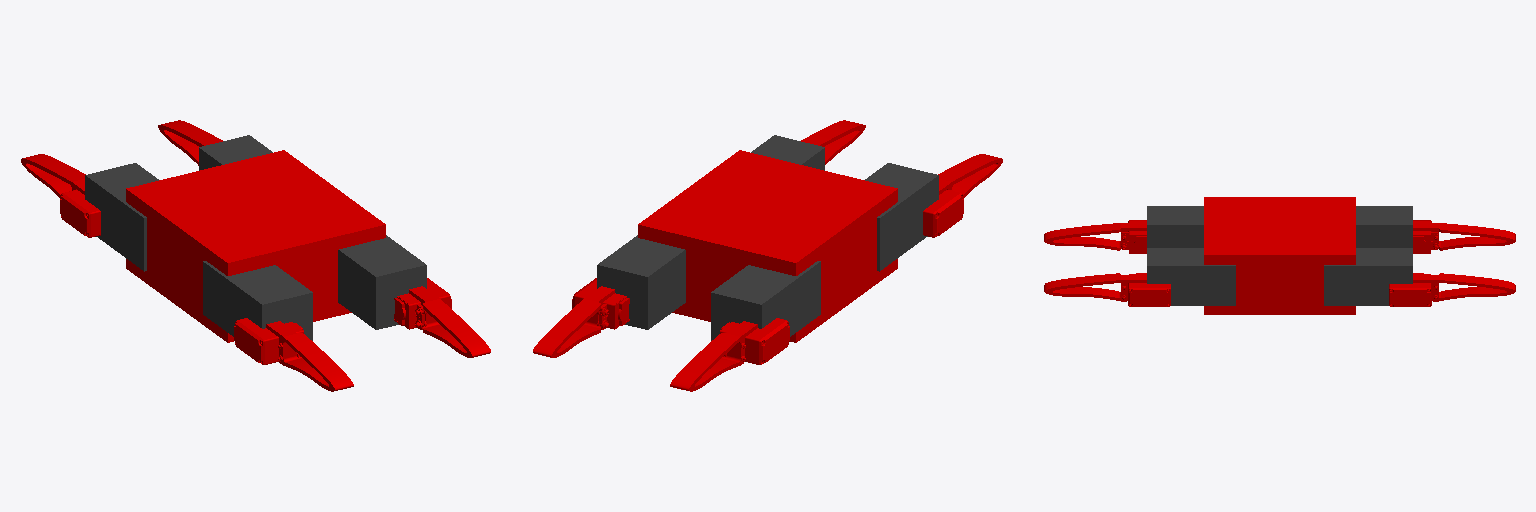
The robot description file, URDF, robot "robot":
<?xml version="1.0"?>
<robot name="robot">

    <material name="red">
        <color rgba="0.9 0 0 1.0" />
    </material>
    <material name="black">
        <color rgba="0.3 0.3 0.3 1.0" />
    </material>


    <link name="corpus">
        <visual>
            <origin xyz="0 0 0" rpy="0 0 0" />
            <geometry>
                 <box size="1.31 1.46 0.6305"/>
            </geometry>
            <material name="red"/>
        </visual>
        <collision>
            <origin xyz="0 0 0" rpy="0 0 0" />
            <geometry>
                <box size="1.31 1.46 0.6305"/>
            </geometry>
        </collision>
        <inertial>
            <origin xyz="0 -0.1 -0.1" rpy="0 0 0" />
            <mass value="561"/>
            <inertia ixx="116.6" ixy="-1.1" ixz="-0.05" iyy="102.5" iyz="4.0" izz="198.5"/>
        </inertial>
         <contact> 
            <lateral_friction value="1"/>
        </contact>
    </link>

    <link name="upper_leg_front_left">
        <visual>
            <origin xyz="0.08 0.295 0" rpy="3.1415 0 0" />
            <geometry>
                <box size="0.42 0.85 0.42"/>
            </geometry>
            <material name="black"/>
        </visual>
        <collision>
            <origin xyz="0.08 0.295 0" rpy="3.1415 0 0" />
            <geometry>
                <box size="0.42 0.85 0.42"/>
            </geometry>
        </collision>
        <inertial>
            <mass value="22"/>
            <origin xyz="0.08 0.295 0" rpy="3.1415 0 0" />
            <inertia ixx="10.9" ixy="-3.2" ixz="-1.9" iyy="7.9" iyz="-3.2" izz="10.9"/>
        </inertial>
         <contact> 
            <lateral_friction value="1"/>
        </contact>
    </link>

    <link name="upper_leg_rear_left">
        <visual>
            <origin xyz="0.08 -0.295 0" rpy="3.1415 0 0" />
            <geometry>
                <box size="0.42 0.85 0.42"/>
            </geometry>
            <material name="black"/>
        </visual>
        <collision>
            <origin xyz="0.08 -0.295 0" rpy="3.1415 0 0" />
            <geometry>
                <box size="0.42 0.85 0.42"/>
            </geometry>
        </collision>
        <inertial>
            <origin xyz="0.08 -0.295 0" rpy="3.1415 0 0" />
            <mass value="22"/>
            <inertia ixx="10.9" ixy="-3.2" ixz="-1.9" iyy="7.9" iyz="-3.2" izz="10.9"/>
        </inertial>
         <contact> 
            <lateral_friction value="1"/>
        </contact>
    </link>

    <link name="upper_leg_front_right">
        <visual>
            <origin xyz="-0.08 0.295 0" rpy="0 3.1415 0" />
            <geometry>
                <box size="0.42 0.85 0.42"/>
            </geometry>
            <material name="black"/>
        </visual>
        <collision>
            <origin xyz="-0.08 0.295 0" rpy="0 3.1415 0" />
            <geometry>
                <box size="0.42 0.85 0.42"/>
            </geometry>
        </collision>
        <inertial>
            <origin xyz="-0.08 0.295 0" rpy="0 3.1415 0" />
            <mass value="22"/>
            <inertia ixx="10.9" ixy="-3.2" ixz="-1.9" iyy="7.9" iyz="-3.2" izz="10.9"/>
        </inertial>
         <contact> 
            <lateral_friction value="1"/>
        </contact>
    </link>

    <link name="upper_leg_rear_right">
        <visual>
            <origin xyz="-0.08 -0.295 0" rpy="0 3.1415 0" />
            <geometry>
                 <box size="0.42 0.85 0.42"/>
            </geometry>
            <material name="black"/>
        </visual>
        <collision>
            <origin xyz="-0.08 -0.295 0" rpy="0 3.1415 0" />
            <geometry>
                <box size="0.42 0.85 0.42"/>
            </geometry>
        </collision>
        <inertial>
            <origin xyz="-0.08 -0.295 0" rpy="0 3.1415 0" />
            <mass value="22"/>
            <inertia ixx="10.9" ixy="-3.2" ixz="-1.9" iyy="7.9" iyz="-3.2" izz="10.9"/>

        </inertial>
         <contact> 
            <lateral_friction value="1"/>
        </contact>
    </link>

    <link name="foot_front_left">
       
        <visual>
            <origin xyz="0 0.471 0" rpy="3.14 0 1.57" />
            <geometry>
                <mesh filename="../mesh/FootL.stl" scale="0.01 0.01 0.01"/>
            </geometry>
            <material name="red"/>
        </visual>
        <collision>
            <origin xyz="0 0.471 0" rpy="3.14 0 1.57" />
            <geometry>
                <mesh filename="../mesh/FootL.stl" scale="0.01 0.01 0.01"/>
            </geometry>
        </collision>
        <inertial>
            <origin xyz="0 0.21 0" rpy="3.14 0 1.57" />
            <mass value="72"/>
            <inertia ixx="0.96" ixy="-0.58" ixz="-0.09" iyy="10.9" iyz="-0.07" izz="11.3"/>
        </inertial>
         <contact> 
            <lateral_friction value="1"/>
        </contact>
    </link>

    <link name="foot_rear_left">
       
        <visual>
            <origin xyz="0 -0.471 0" rpy="3.14 0 -1.57" />
            <geometry>
                <mesh filename="../mesh/FootR.stl" scale="0.01 0.01 0.01"/>
            </geometry>
            <material name="red"/>
        </visual>
        <collision>
            <origin xyz="0 -0.471 0" rpy="3.14 0 -1.57" />
            <geometry>
                <mesh filename="../mesh/FootR.stl" scale="0.01 0.01 0.01"/>
            </geometry>
        </collision>
        <inertial>
            <origin xyz="0 -0.21 0" rpy="3.14 0 -1.57" />
            <mass value="72"/>
            <inertia ixx="0.96" ixy="-0.58" ixz="-0.09" iyy="10.9" iyz="-0.07" izz="11.3"/>
        </inertial>
         <contact> 
            <lateral_friction value="1"/>
        </contact>
    </link>

    <link name="foot_front_right">
       
        <visual>
            <origin xyz="0 0.471 0" rpy="3.14 0 1.57" />
            <geometry>
                <mesh filename="../mesh/FootR.stl" scale="0.01 0.01 0.01"/>
            </geometry>
            <material name="red"/>
        </visual>
        <collision>
            <origin xyz="0 0.471 0" rpy="3.14 0 1.57" />
            <geometry>
                <mesh filename="../mesh/FootR.stl" scale="0.01 0.01 0.01"/>
            </geometry>
        </collision>
        <inertial>
            <origin xyz="0 0.21 0" rpy="3.14 0 1.57" />
            <mass value="72"/>
            <inertia ixx="0.96" ixy="-0.58" ixz="-0.09" iyy="10.9" iyz="-0.07" izz="11.3"/>
        </inertial>
         <contact> 
            <lateral_friction value="1"/>
        </contact>
    </link>

    <link name="foot_rear_right">
       
        <visual>
            <origin xyz="0 -0.471 0" rpy="3.14 0 -1.57" />
            <geometry>
                <mesh filename="../mesh/FootL.stl" scale="0.01 0.01 0.01"/>
            </geometry>
            <material name="red"/>
        </visual>
        <collision>
            <origin xyz="0 -0.471 0" rpy="3.14 0 1.57" />
            <geometry>
                <mesh filename="../mesh/FootL.stl" scale="0.01 0.01 0.01"/>
            </geometry>
        </collision>
        <inertial>
            <origin xyz="0 -0.21 0" rpy="3.14 0 -1.57" />
            <mass value="72"/>
            <inertia ixx="0.96" ixy="-0.58" ixz="-0.09" iyy="10.9" iyz="-0.07" izz="11.3"/>
        </inertial>
         <contact> 
            <lateral_friction value="1"/>
        </contact>
    </link>


    <joint name="corpus_to_upper_fl" type="revolute">
        <parent link="corpus"/>
        <child link="upper_leg_front_left"/>
        <origin xyz="-0.55 0.55 0"/>
        <axis xyz="0 0 1"/>
        <limit effort="93000" lower="-0.2" upper="2.4" velocity="5.1"/>
    </joint>

    <joint name="corpus_to_upper_rl" type="revolute">
        <parent link="corpus"/>
        <child link="upper_leg_rear_left"/>
        <origin xyz="-0.55 -0.55 0"/>
        <axis xyz="0 0 1"/>
        <limit effort="93000" lower="-2.4" upper="0.2" velocity="5.1"/>
    </joint>

    <joint name="corpus_to_upper_fr" type="revolute">
        <parent link="corpus"/>
        <child link="upper_leg_front_right"/>
        <origin xyz="0.55 0.55 0"/>
        <axis xyz="0 0 1"/>
        <limit effort="93000" lower="-2.4" upper="0.2" velocity="5.1"/>
    </joint>

    <joint name="corpus_to_upper_rr" type="revolute">
        <parent link="corpus"/>
        <child link="upper_leg_rear_right"/>
        <origin xyz="0.55 -0.55 0"/>
        <axis xyz="0 0 1"/>
        <limit effort="93000" lower="-0.2" upper="2.4" velocity="5.1"/>
    </joint>

    <joint name="upper_leg_to_foot_fl" type="revolute">
        <parent link="upper_leg_front_left"/>
        <child link="foot_front_left"/>
        <origin xyz="-0.02 0.59 -0.08"/>
        <axis xyz="1 0 0"/>
        <limit effort="93000" lower="-2.2" upper="1.9" velocity="5.1"/>
    </joint>

    <joint name="upper_leg_to_foot_rl" type="revolute">
        <parent link="upper_leg_rear_left"/>
        <child link="foot_rear_left"/>
        <origin xyz="-0.02 -0.59 -0.08"/>
        <axis xyz="1 0 0"/>
        <limit effort="93000" lower="-1.9" upper="2.2" velocity="5.1"/>
    </joint>

    <joint name="upper_leg_to_foot_fr" type="revolute">
        <parent link="upper_leg_front_right"/>
        <child link="foot_front_right"/>
        <origin xyz="0.02 0.59 -0.08"/>
        <axis xyz="1 0 0"/>
        <limit effort="93000" lower="-2.2" upper="1.9" velocity="5.1"/>
    </joint>

    <joint name="upper_leg_to_foot_rr" type="revolute">
        <parent link="upper_leg_rear_right"/>
        <child link="foot_rear_right"/>
        <origin xyz="0.02 -0.59 -0.08"/>
        <axis xyz="1 0 0"/>
        <limit effort="93000" lower="-1.9" upper="2.2" velocity="5.1"/>
    </joint>


</robot>

--- Render facts (derived) ---
Views: 3 orthographic renders of the robot side by side, from view 1: azimuth 30°, elevation 25°; view 2: azimuth 150°, elevation 25°; view 3: azimuth 270°, elevation 25°.
Robot: robot — 9 links, 8 joints (8 revolute); root link corpus; default pose: all joints at 0.
Visible links, largest first — view 1: corpus, upper_leg_rear_left, upper_leg_rear_right, upper_leg_front_left, foot_rear_left, foot_rear_right, foot_front_left, upper_leg_front_right, foot_front_right; view 2: corpus, upper_leg_front_left, upper_leg_front_right, upper_leg_rear_left, foot_front_left, foot_front_right, foot_rear_left, upper_leg_rear_right, foot_rear_right; view 3: corpus, upper_leg_front_right, upper_leg_rear_right, foot_rear_right, foot_front_right, upper_leg_front_left, upper_leg_rear_left, foot_rear_left, foot_front_left.
Boxes of the visible links, x1,y1,x2,y2 form: corpus: (126,150,385,342); upper_leg_rear_left: (203,261,312,340); upper_leg_rear_right: (338,235,426,329); upper_leg_front_left: (85,163,158,271); foot_rear_left: (234,318,353,391); foot_rear_right: (394,278,490,357); foot_front_left: (21,154,100,237); upper_leg_front_right: (199,135,272,170); foot_front_right: (158,120,222,165); corpus: (638,150,897,342); upper_leg_front_left: (711,261,820,340); upper_leg_front_right: (597,235,685,329); upper_leg_rear_left: (865,163,938,271); foot_front_left: (670,318,789,391); foot_front_right: (533,278,629,357); foot_rear_left: (923,154,1002,237); upper_leg_rear_right: (751,135,824,170); foot_rear_right: (801,120,865,164); corpus: (1204,197,1355,314); upper_leg_front_right: (1324,248,1412,305); upper_leg_rear_right: (1147,248,1235,305); foot_rear_right: (1044,273,1170,306); foot_front_right: (1389,273,1515,306); upper_leg_front_left: (1356,206,1412,247); upper_leg_rear_left: (1147,206,1203,247); foot_rear_left: (1044,220,1146,253); foot_front_left: (1413,220,1515,253).
Bounding box of the posed robot: 1.58 × 4.5 × 0.6305 m (x, y, z).
4 mesh visuals loaded from 2 distinct referenced files (2 binary STL).